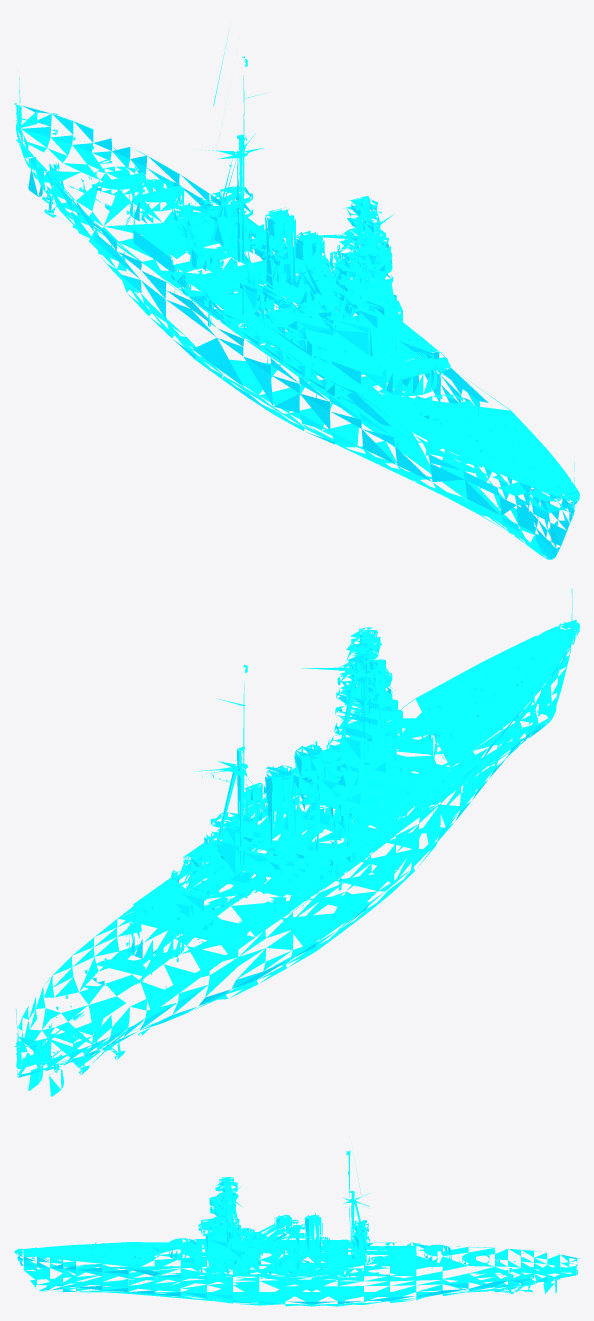
The model's file is Mutsu.glb.
3 renders of one model, top to bottom at view 1: azimuth 30°, elevation 25°; view 2: azimuth 150°, elevation 25°; view 3: azimuth 270°, elevation 25°, orthographic. The views are drawn at different scales.
Size of the model in its own units: 1.98 by 4.62 by 14.54.
